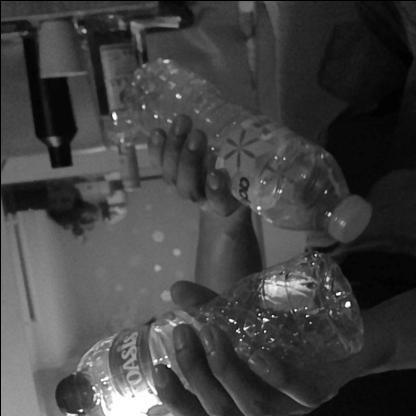plastic_bottles: (55, 251, 365, 416), (122, 55, 372, 245)
